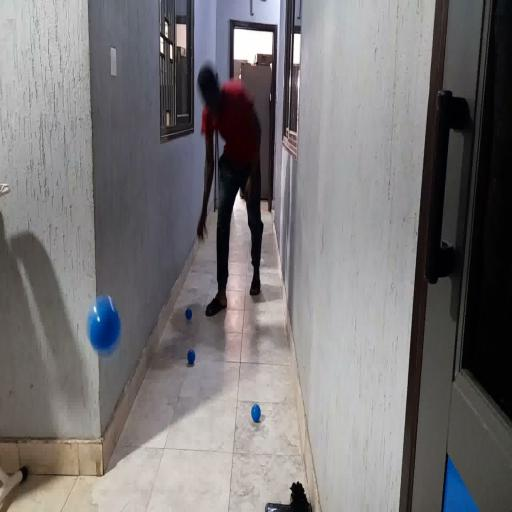plastic-ball: (85, 296, 121, 358)
